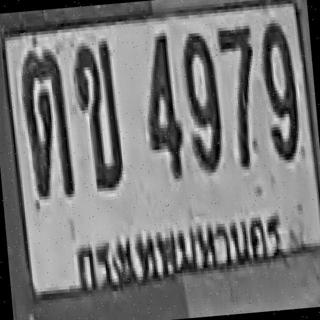A02: (71, 40, 123, 190)
A21: (19, 46, 73, 199)
N04: (139, 30, 186, 179)
N07: (215, 23, 262, 169)
N09: (180, 28, 225, 174), (258, 18, 301, 161)
P04: (70, 197, 292, 297)
